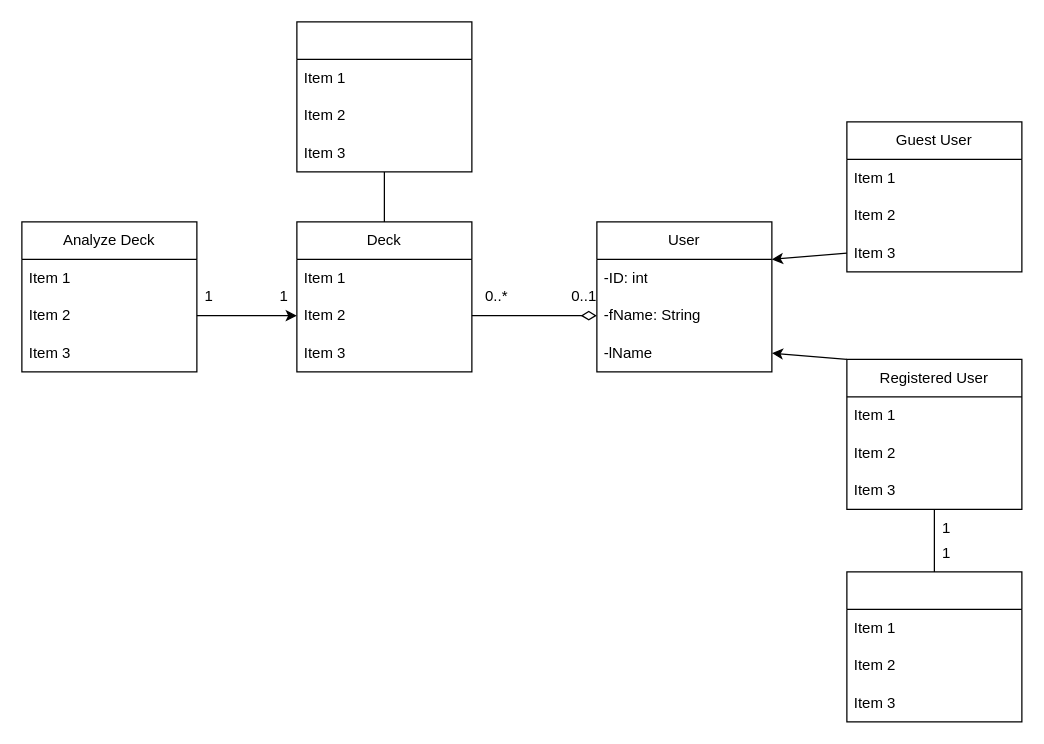
The diagram is 1044 pixels wide and 744 high, and some of its shapes have lost their labels. The box of each missing label's shape, as (x1, y1, x2, y2) in pixels:
Card: (296, 21, 472, 172)
Login: (846, 571, 1022, 722)
